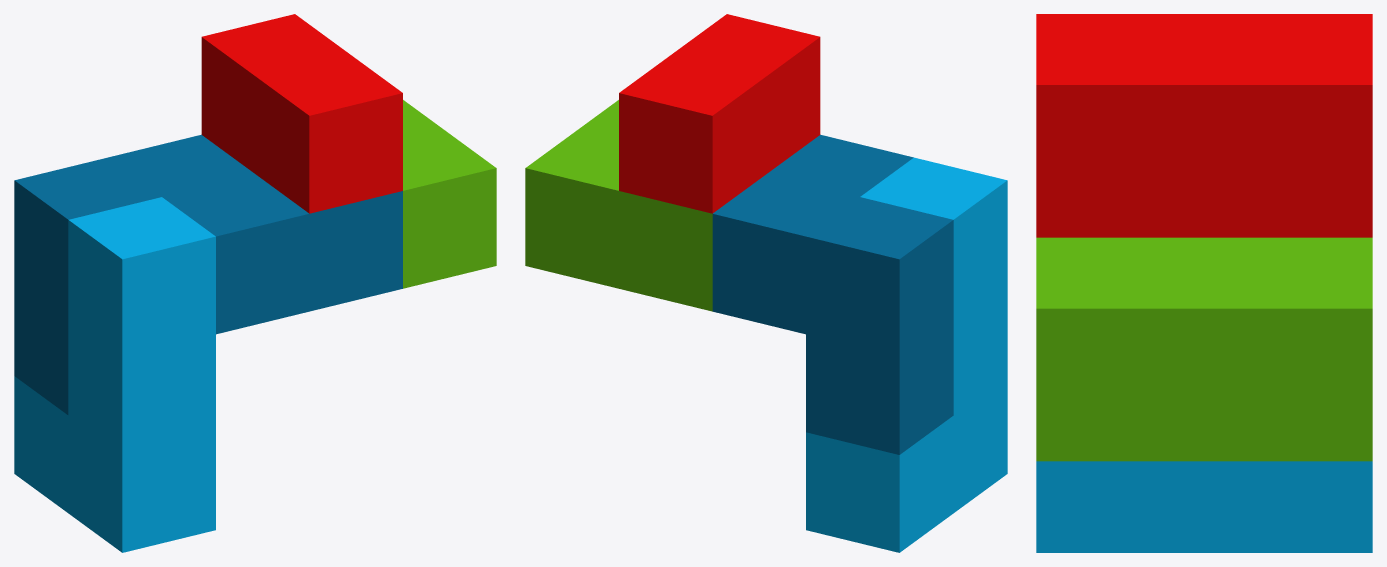
3 views of the same model, side by side, from view 1: azimuth 30°, elevation 25°; view 2: azimuth 150°, elevation 25°; view 3: azimuth 270°, elevation 25° (orthographic). The views are drawn at different scales.
Visible parts, largest first — view 1: mergedBlocks(Clone); view 2: mergedBlocks(Clone); view 3: mergedBlocks(Clone).
Part boxes in pixels (x1=…): mergedBlocks(Clone): x1=14, y1=14, x2=496, y2=552; mergedBlocks(Clone): x1=525, y1=14, x2=1007, y2=552; mergedBlocks(Clone): x1=1036, y1=14, x2=1372, y2=552.
Size of the model in its own units: 4 by 4 by 2.
4 materials, 4 textured.
